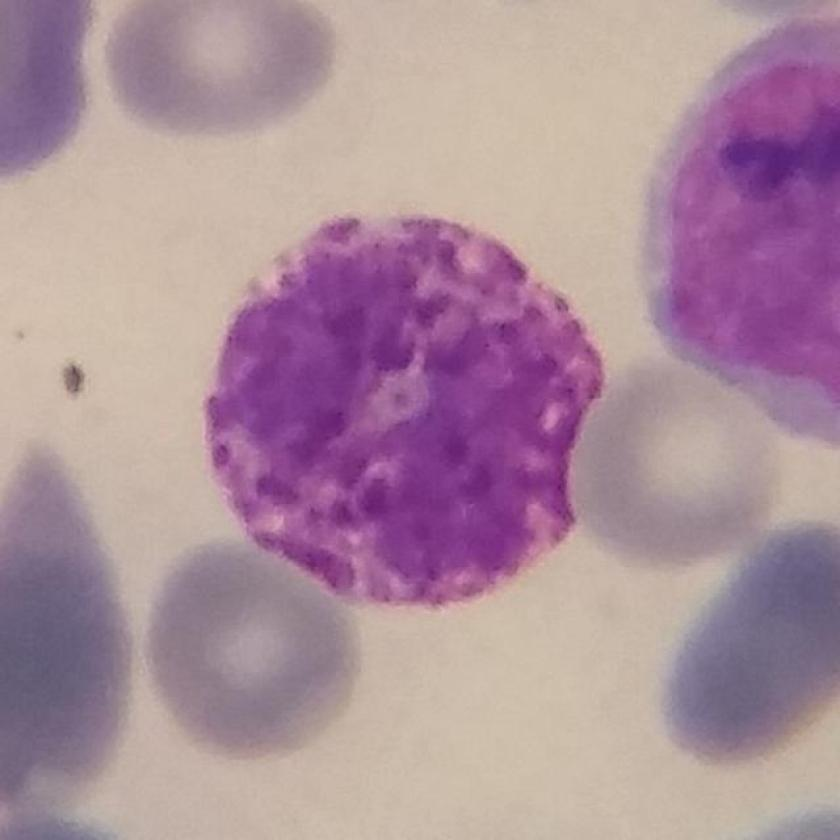basophil: (203, 206, 611, 622)
